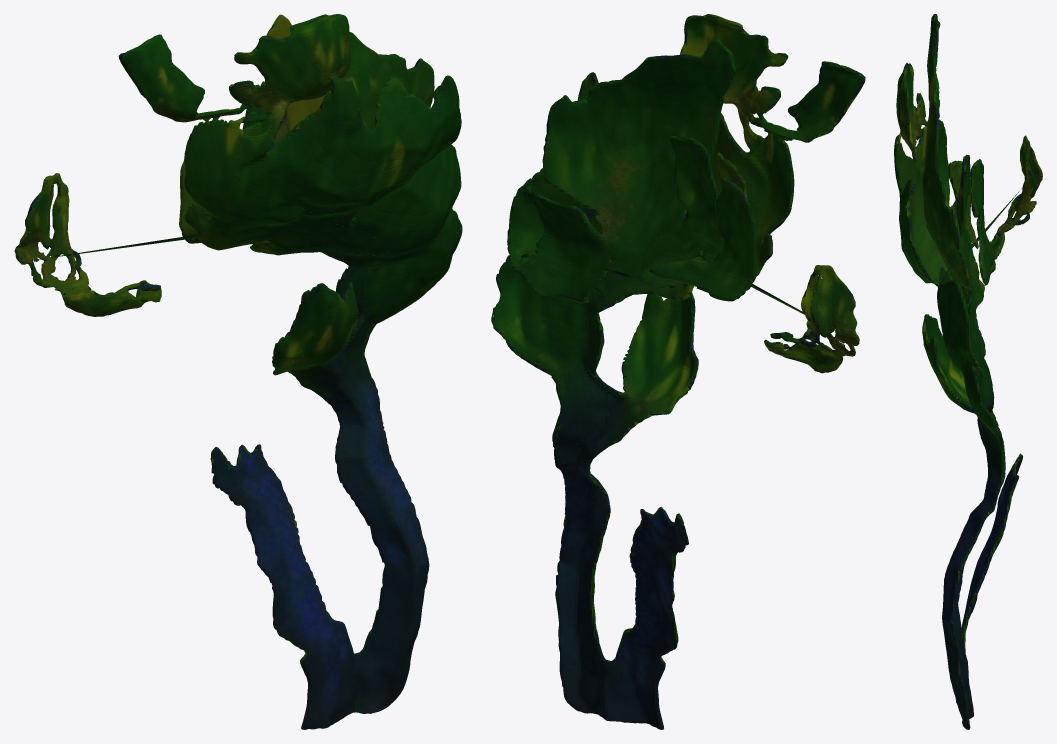
The picture shows the model from 3 angles, left to right: view 1: azimuth 30°, elevation 25°; view 2: azimuth 150°, elevation 25°; view 3: azimuth 270°, elevation 25°; orthographic projection. The views are drawn at different scales.
Parts seen in each view (by area): view 1: Hy21_Mesh.obj; view 2: Hy21_Mesh.obj; view 3: Hy21_Mesh.obj.
Part boxes in pixels (x1,y1,x2,y2): Hy21_Mesh.obj: (14,14,462,729); Hy21_Mesh.obj: (491,14,865,729); Hy21_Mesh.obj: (894,14,1042,729).
Bounding box in the file's own units: 1.15 × 1.96 × 0.4329.
1 material, 1 textured.
